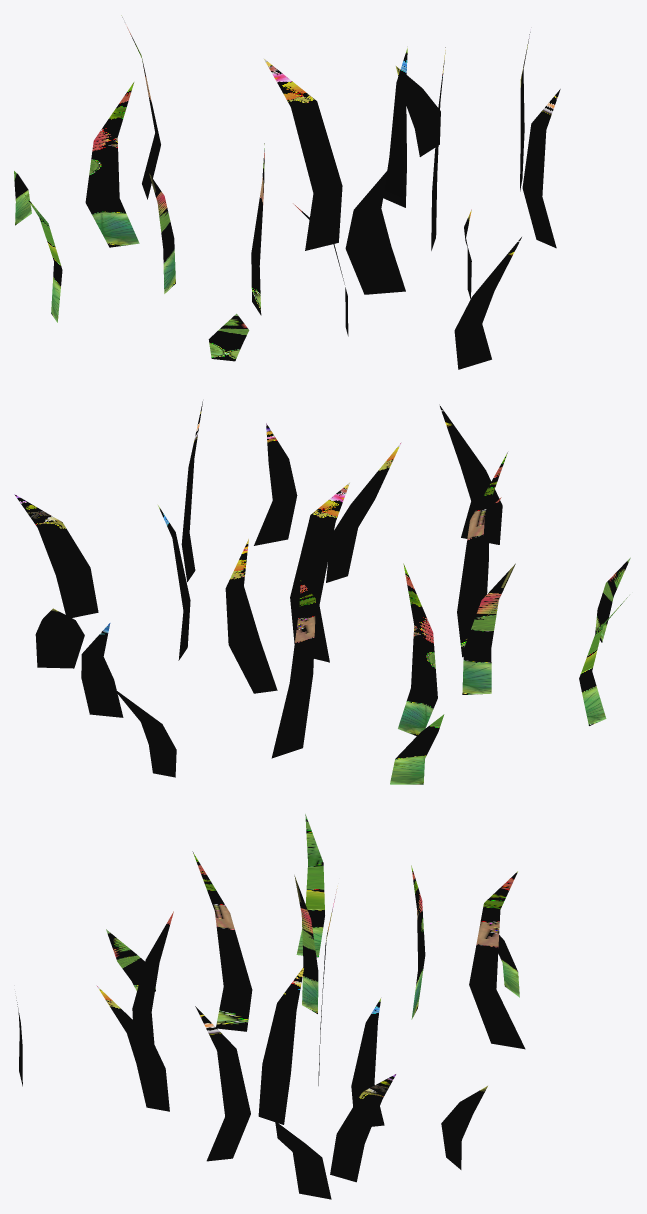
File: P_Grass1.obj
3 views of the same model, one above another, from view 1: azimuth 30°, elevation 25°; view 2: azimuth 150°, elevation 25°; view 3: azimuth 270°, elevation 25° (orthographic). The views are drawn at different scales.
Bounding box in the file's own units: 1.06 × 0.329 × 1.02.
